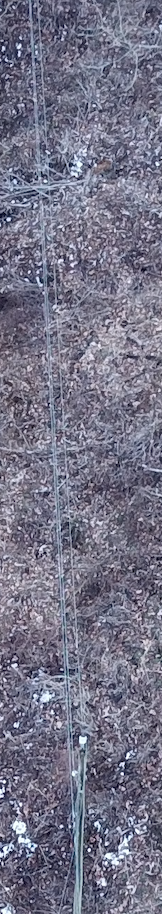pole: (39, 722, 123, 907)
